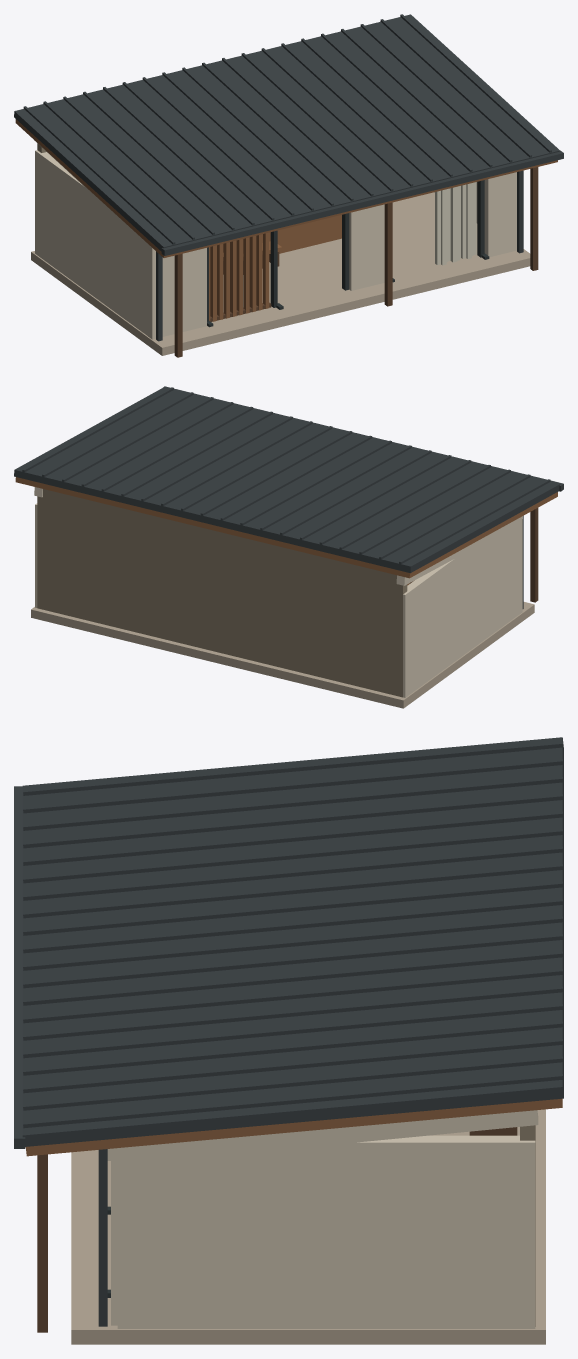
File: garden-pavilion.glb
The picture shows the model from 3 angles, top to bottom: view 1: azimuth 30°, elevation 25°; view 2: azimuth 150°, elevation 25°; view 3: azimuth 270°, elevation 25°; orthographic projection. The views are drawn at different scales.
Parts seen in each view (by area): view 1: Deep zinc shed roof, Limestone floor, West return, Street-facing pier, Front gutter, Street-facing pier.001, Street-facing pier.002, Cedar soffit, Kitchen island, Veranda column.001, Veranda column.002, Veranda column (+39 smaller); view 2: Rear wall, Deep zinc shed roof, West return, Limestone floor, Cedar soffit, Veranda column, Standing seam.005, Standing seam.015, Standing seam, Standing seam.009, Standing seam.010, Standing seam.013 (+17 smaller); view 3: Deep zinc shed roof, East return, Limestone floor, Raked side fascia.001, Cedar soffit, Standing seam.001, Standing seam.003, Standing seam.005, Standing seam.009, Standing seam.011, Standing seam.007, Standing seam.013 (+17 smaller).
Boxes of the visible parts, left/top/right/bottom form: Deep zinc shed roof: left=14, top=14, right=560, bottom=251; Limestone floor: left=31, top=192, right=530, bottom=355; West return: left=35, top=150, right=147, bottom=335; Street-facing pier: left=147, top=244, right=206, bottom=339; Front gutter: left=161, top=150, right=563, bottom=255; Street-facing pier.001: left=349, top=204, right=384, bottom=290; Street-facing pier.002: left=484, top=172, right=516, bottom=257; Cedar soffit: left=15, top=119, right=557, bottom=257; Kitchen island: left=223, top=215, right=341, bottom=253; Veranda column.001: left=384, top=202, right=392, bottom=306; Veranda column.002: left=530, top=167, right=538, bottom=270; Veranda column: left=174, top=253, right=182, bottom=357; Rear wall: left=37, top=489, right=407, bottom=697; Deep zinc shed roof: left=14, top=387, right=560, bottom=573; West return: left=403, top=519, right=517, bottom=697; Limestone floor: left=31, top=602, right=534, bottom=708; Cedar soffit: left=15, top=477, right=557, bottom=578; Veranda column: left=530, top=508, right=538, bottom=602; Standing seam.005: left=299, top=455, right=451, bottom=540; Standing seam.015: left=101, top=406, right=253, bottom=491; Standing seam: left=399, top=479, right=550, bottom=564; Standing seam.009: left=220, top=435, right=372, bottom=520; Standing seam.010: left=200, top=431, right=352, bottom=516; Standing seam.013: left=141, top=416, right=292, bottom=501; Deep zinc shed roof: left=22, top=737, right=563, bottom=1146; East return: left=117, top=1135, right=535, bottom=1328; Limestone floor: left=71, top=1109, right=545, bottom=1344; Raked side fascia.001: left=112, top=1110, right=538, bottom=1165; Cedar soffit: left=25, top=1098, right=562, bottom=1156; Standing seam.001: left=23, top=759, right=563, bottom=813; Standing seam.003: left=23, top=794, right=563, bottom=848; Standing seam.005: left=23, top=829, right=563, bottom=883; Standing seam.009: left=23, top=899, right=563, bottom=953; Standing seam.011: left=23, top=934, right=563, bottom=988; Standing seam.007: left=23, top=864, right=563, bottom=918; Standing seam.013: left=23, top=969, right=563, bottom=1023.
Size of the model in its own units: 11.68 by 4.21 by 7.71.
